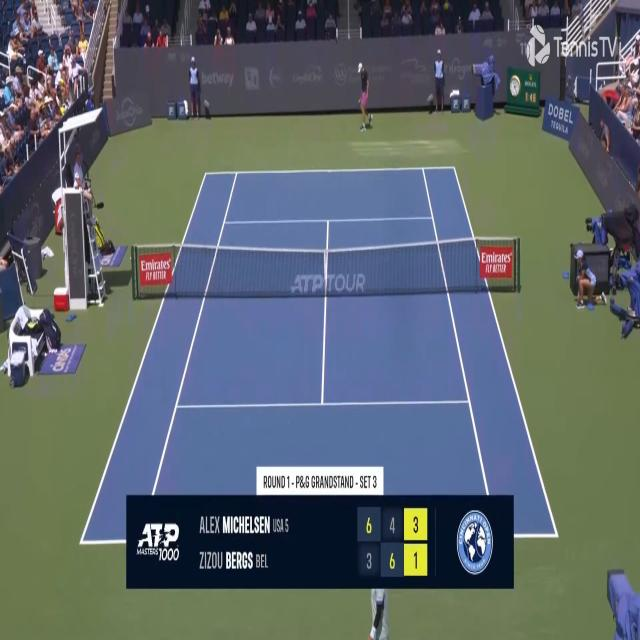tennis-player: (356, 60, 373, 133)
